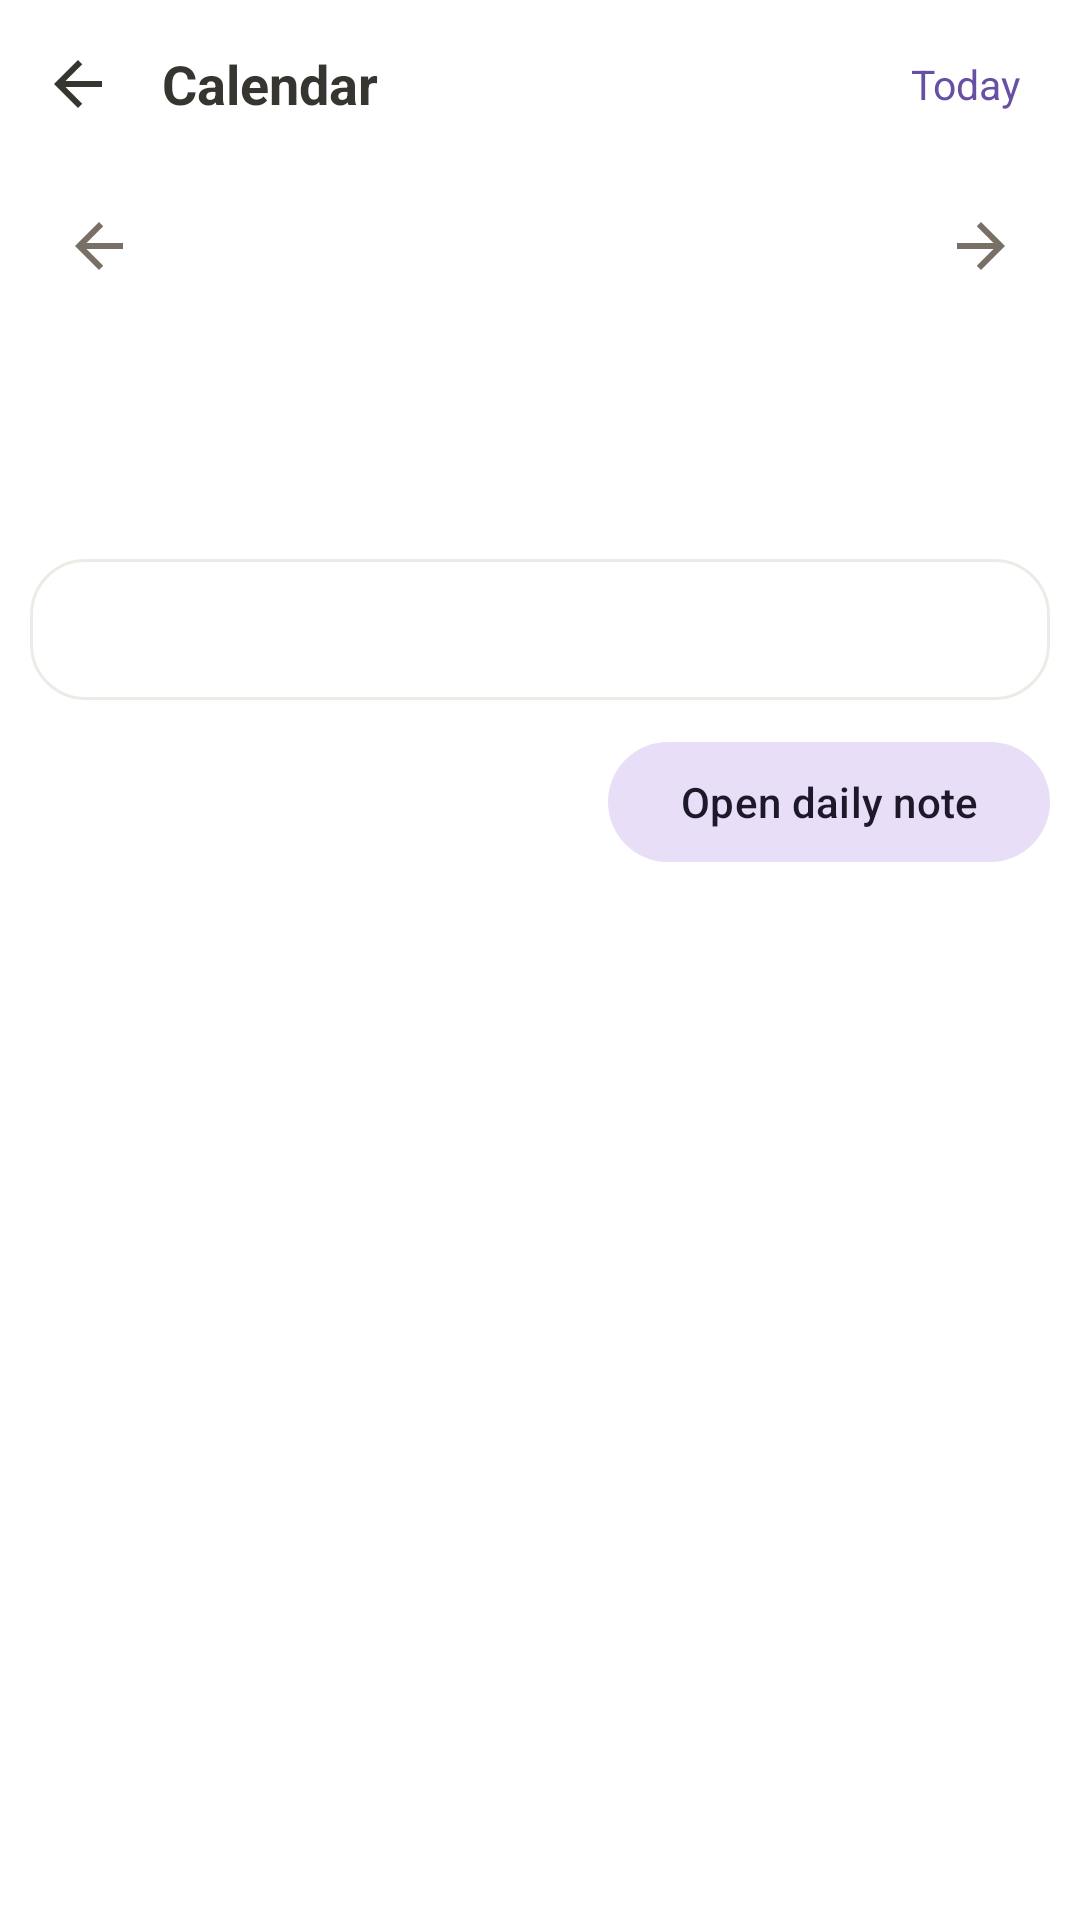

Named icons in this screenshot (1080x1920) and their bounding boxes, box(x1, y1, x2, y2):
Back: box(54, 60, 102, 108)
Next month: box(957, 222, 1005, 270)
Previous month: box(75, 222, 123, 270)
